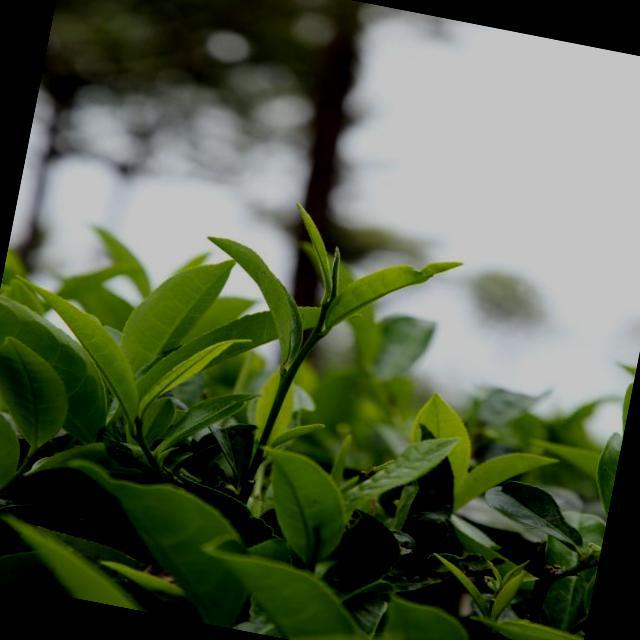Stem: (307, 334, 319, 347)
